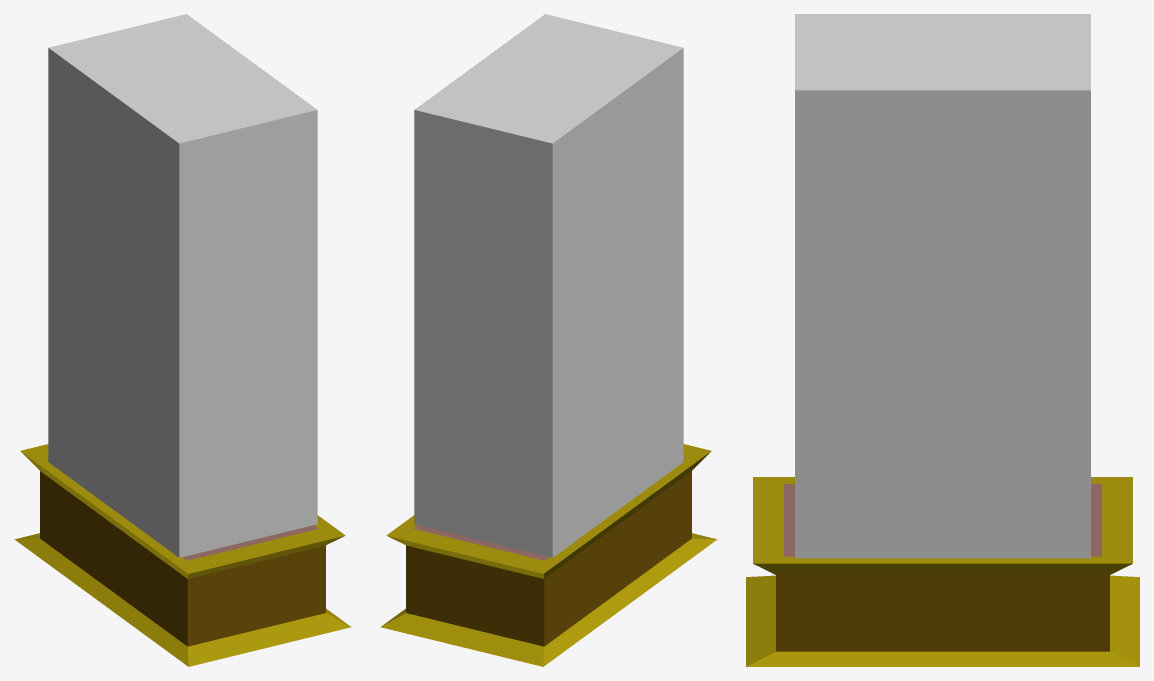
File: Showing Case_Large.fbx
3 views of the same model, side by side, from view 1: azimuth 30°, elevation 25°; view 2: azimuth 150°, elevation 25°; view 3: azimuth 270°, elevation 25° (orthographic). The views are drawn at different scales.
Parts seen in each view (by area): view 1: Showing_Case_3_pCube1; view 2: Showing_Case_3_pCube1; view 3: Showing_Case_3_pCube1.
Part boxes in pixels (x1,y1,x2,y2): Showing_Case_3_pCube1: (14,14,351,666); Showing_Case_3_pCube1: (380,14,717,666); Showing_Case_3_pCube1: (746,14,1139,666).
Bounding box in the file's own units: 6.18 × 18.26 × 11.44.
